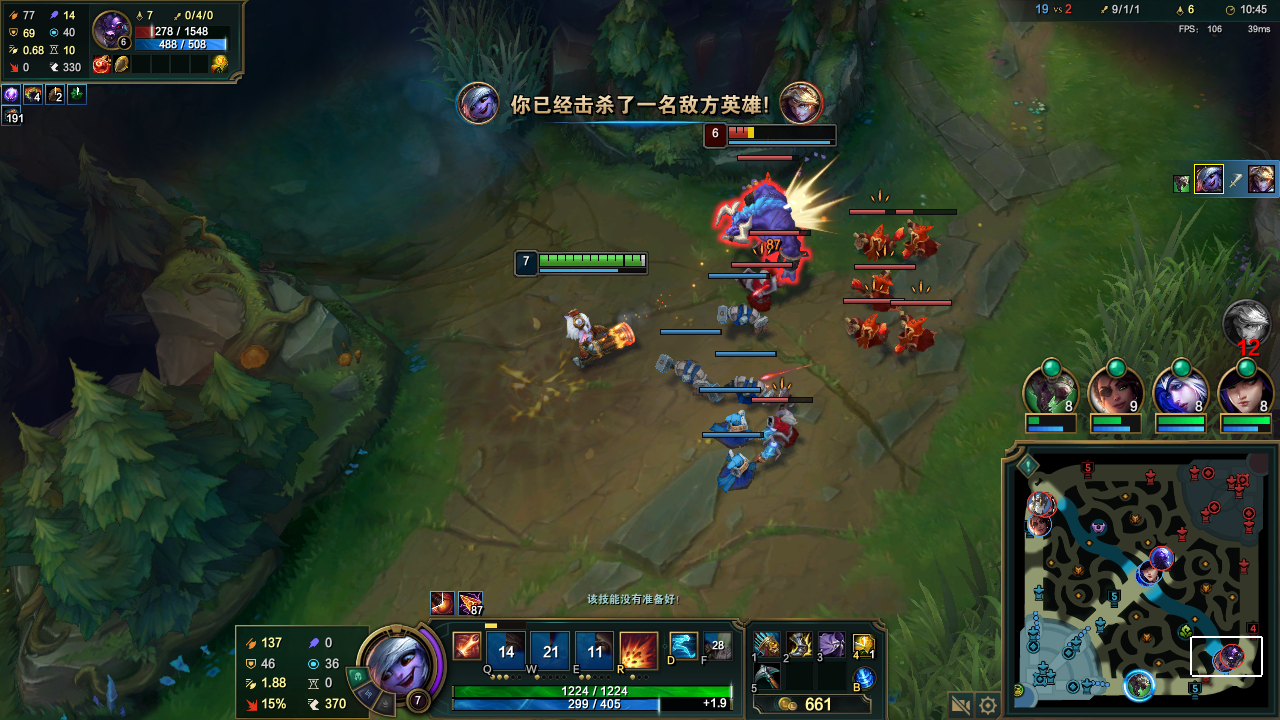DFXB: (848, 221, 907, 264), (842, 308, 894, 348), (895, 318, 943, 360), (855, 277, 905, 317), (897, 217, 946, 257), (744, 275, 780, 320), (758, 408, 799, 447)
DFYX: (727, 123, 816, 146)
WFXB: (700, 442, 768, 501), (659, 345, 718, 406), (711, 295, 776, 348), (718, 363, 780, 417), (701, 406, 765, 448)
Yita: (1188, 678, 1204, 700)
